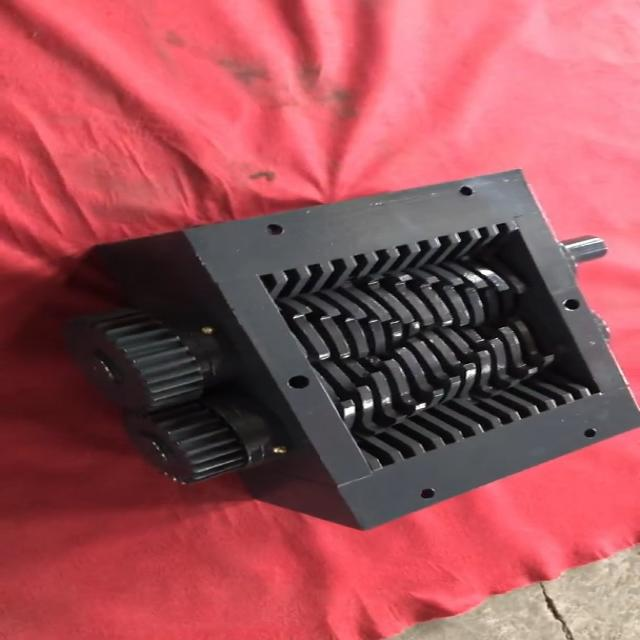Broyeur: (246, 218, 602, 481)
